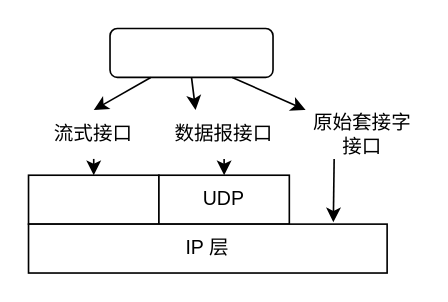
Some shapes in this 448 by 302 pixel diagram are drawn without their labels. The shapes that lost their labels are listed below. From the top down, each one's centre as x and y in pixels, then its label:
point 190,52: 应用
point 93,199: TCP
